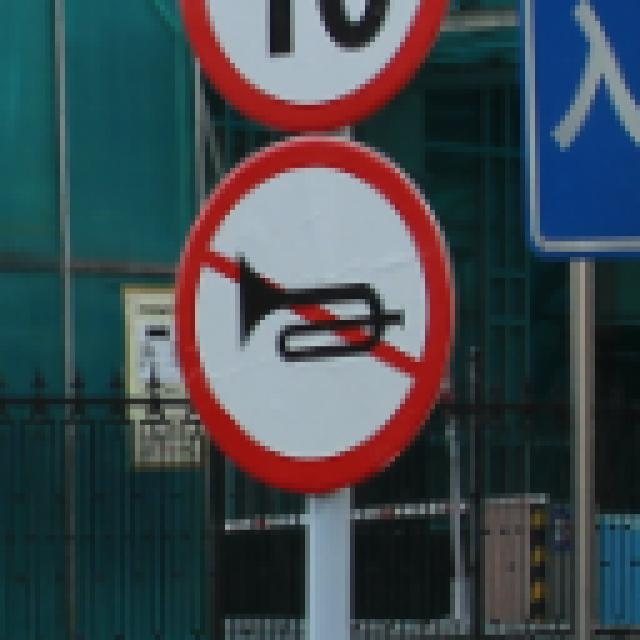No Horn: (168, 143, 468, 496)
